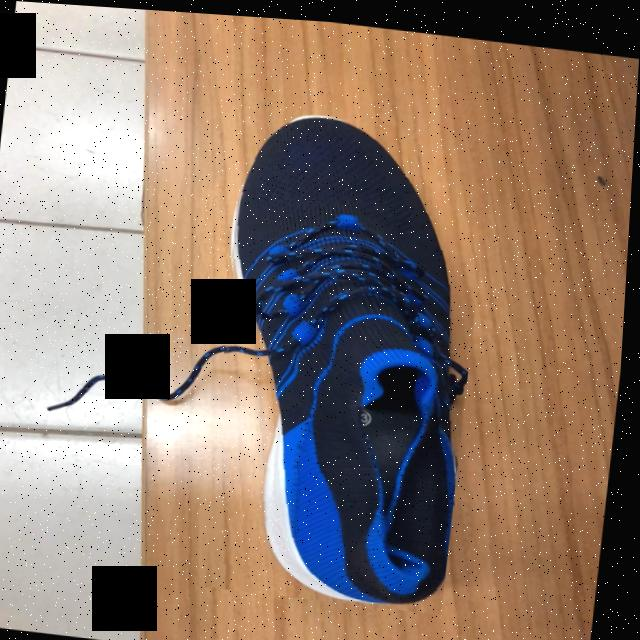shoe: (236, 111, 472, 601)
